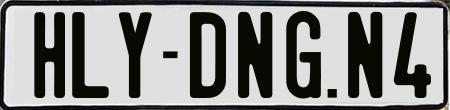4: (394, 9, 432, 98)
D: (189, 10, 227, 98)
G: (285, 8, 322, 97)
H: (31, 11, 68, 103)
L: (70, 9, 108, 96)
N: (346, 11, 385, 100), (235, 9, 269, 98)
Y: (119, 12, 157, 103)
